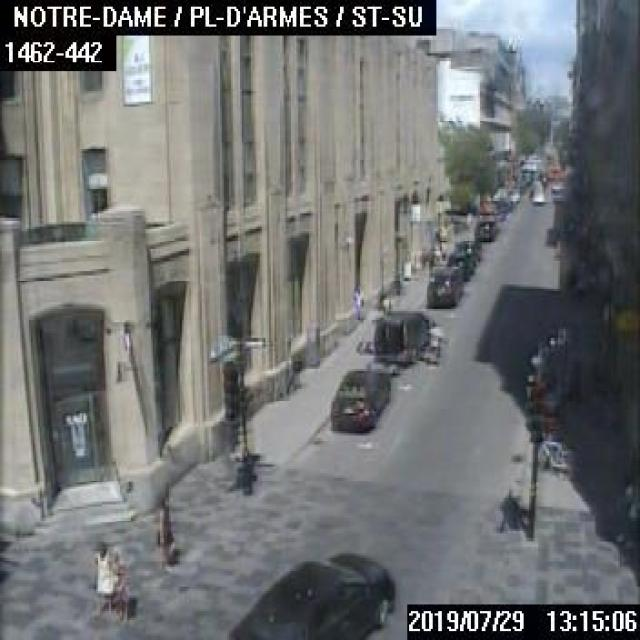pedestrian: (110, 542, 134, 624), (154, 488, 177, 570), (85, 540, 108, 622), (616, 476, 638, 546), (429, 315, 441, 360)
vehicle: (223, 549, 394, 638), (327, 364, 389, 429), (371, 307, 428, 360), (426, 265, 462, 307), (444, 250, 474, 280), (454, 235, 481, 262), (473, 216, 498, 239), (528, 191, 548, 205)
